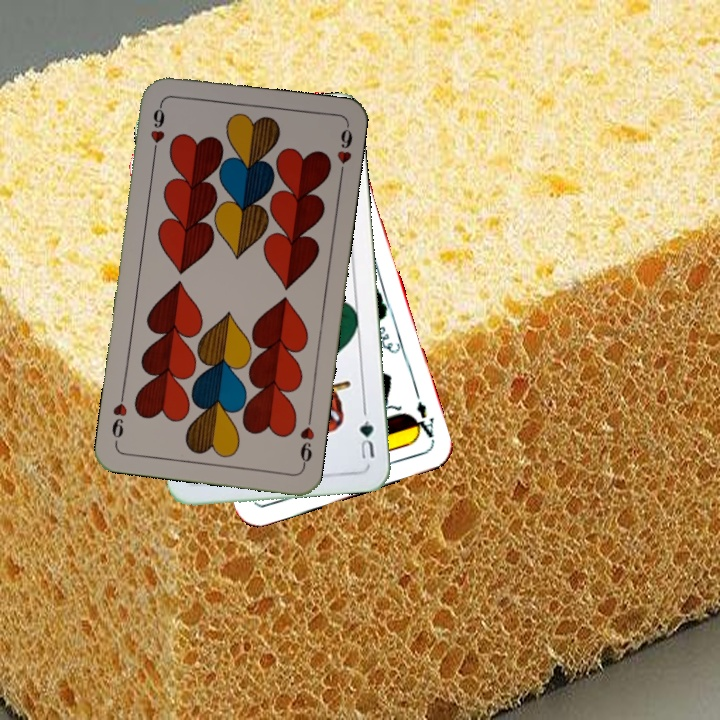EA: (407, 397, 437, 446)
GU: (355, 416, 377, 462)
H9: (146, 99, 168, 158), (296, 411, 317, 470)
